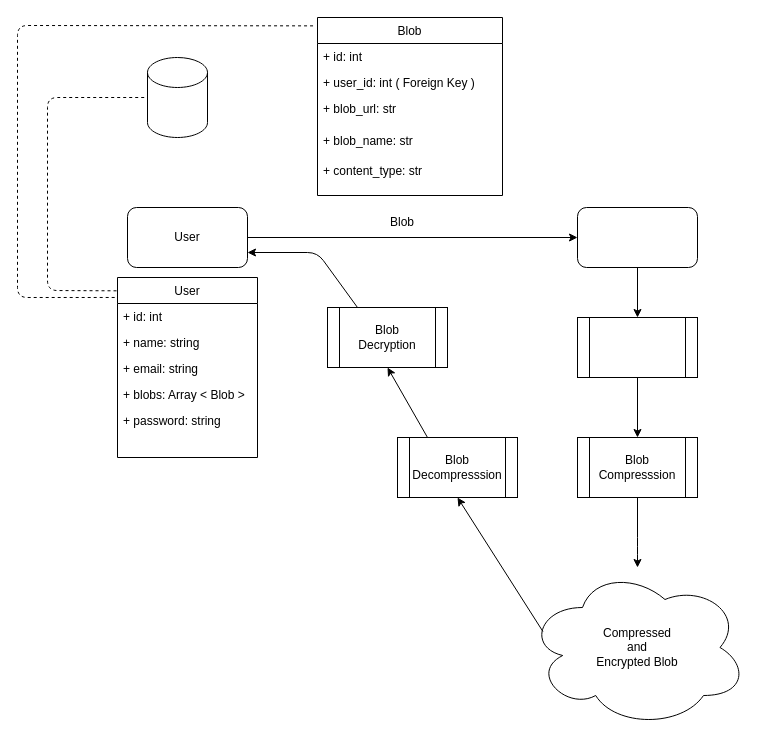
Some shapes in this 765 by 745 pixel diagram are drawn without their labels. The shapes that lost their labels are listed below. From the top down, each one's box as (x1, y1, x2, y2) in pixels, then its label:
(146, 56, 208, 138): DB
(576, 206, 698, 268): fastApi Server
(576, 316, 698, 378): Blob Encryption
